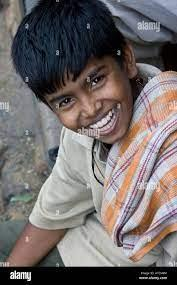Human: (3, 0, 177, 266)
